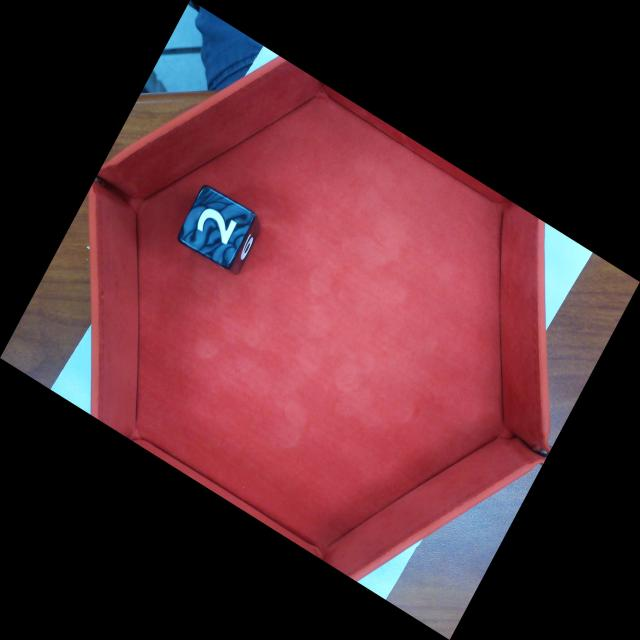dice: (175, 181, 260, 273)
